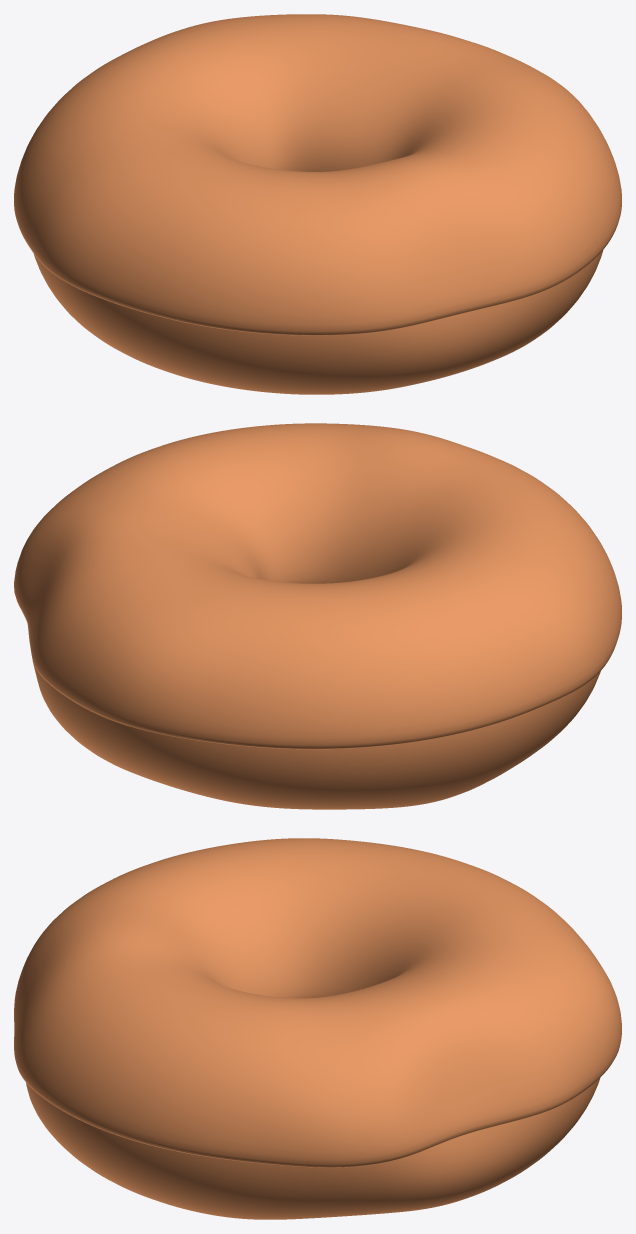
The model's file is donut.gltf.
3 views of the same model, one above another, from view 1: azimuth 30°, elevation 25°; view 2: azimuth 150°, elevation 25°; view 3: azimuth 270°, elevation 25° (orthographic).
Parts seen in each view (by area): view 1: icing-node, donut-node; view 2: icing-node, donut-node; view 3: icing-node, donut-node.
Part boxes in pixels (left/top/right/bottom): icing-node: left=14, top=14, right=621, bottom=335; donut-node: left=34, top=250, right=603, bottom=394; icing-node: left=14, top=423, right=621, bottom=749; donut-node: left=27, top=625, right=600, bottom=809; icing-node: left=14, top=838, right=621, bottom=1167; donut-node: left=26, top=1077, right=600, bottom=1219.
Size of the model in its own units: 0.106 by 0.0415 by 0.1032.
